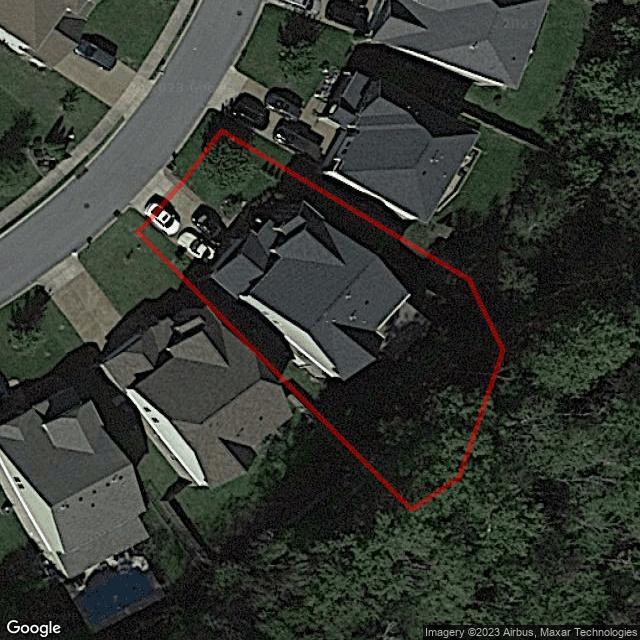Driveway: (152, 186, 225, 261)
Extra Driveway: (131, 170, 176, 216)
Extra Lawn: (166, 121, 217, 179)
House: (211, 199, 420, 382)
